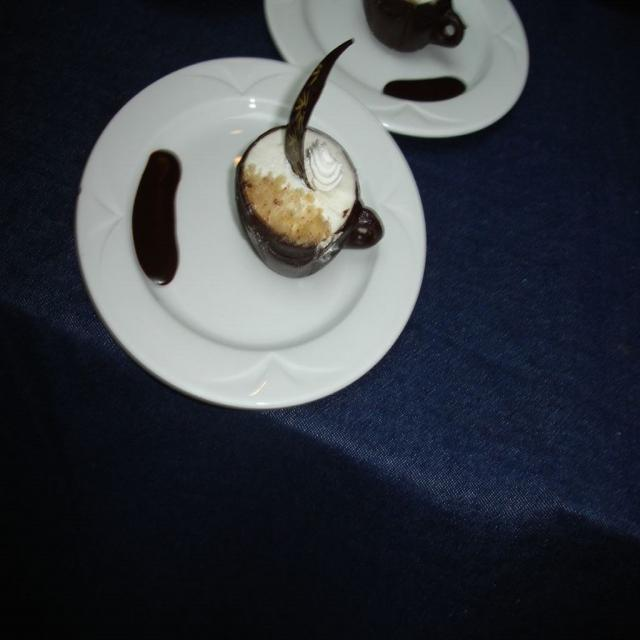non-organic waste: (74, 57, 424, 408), (250, 2, 532, 136)
